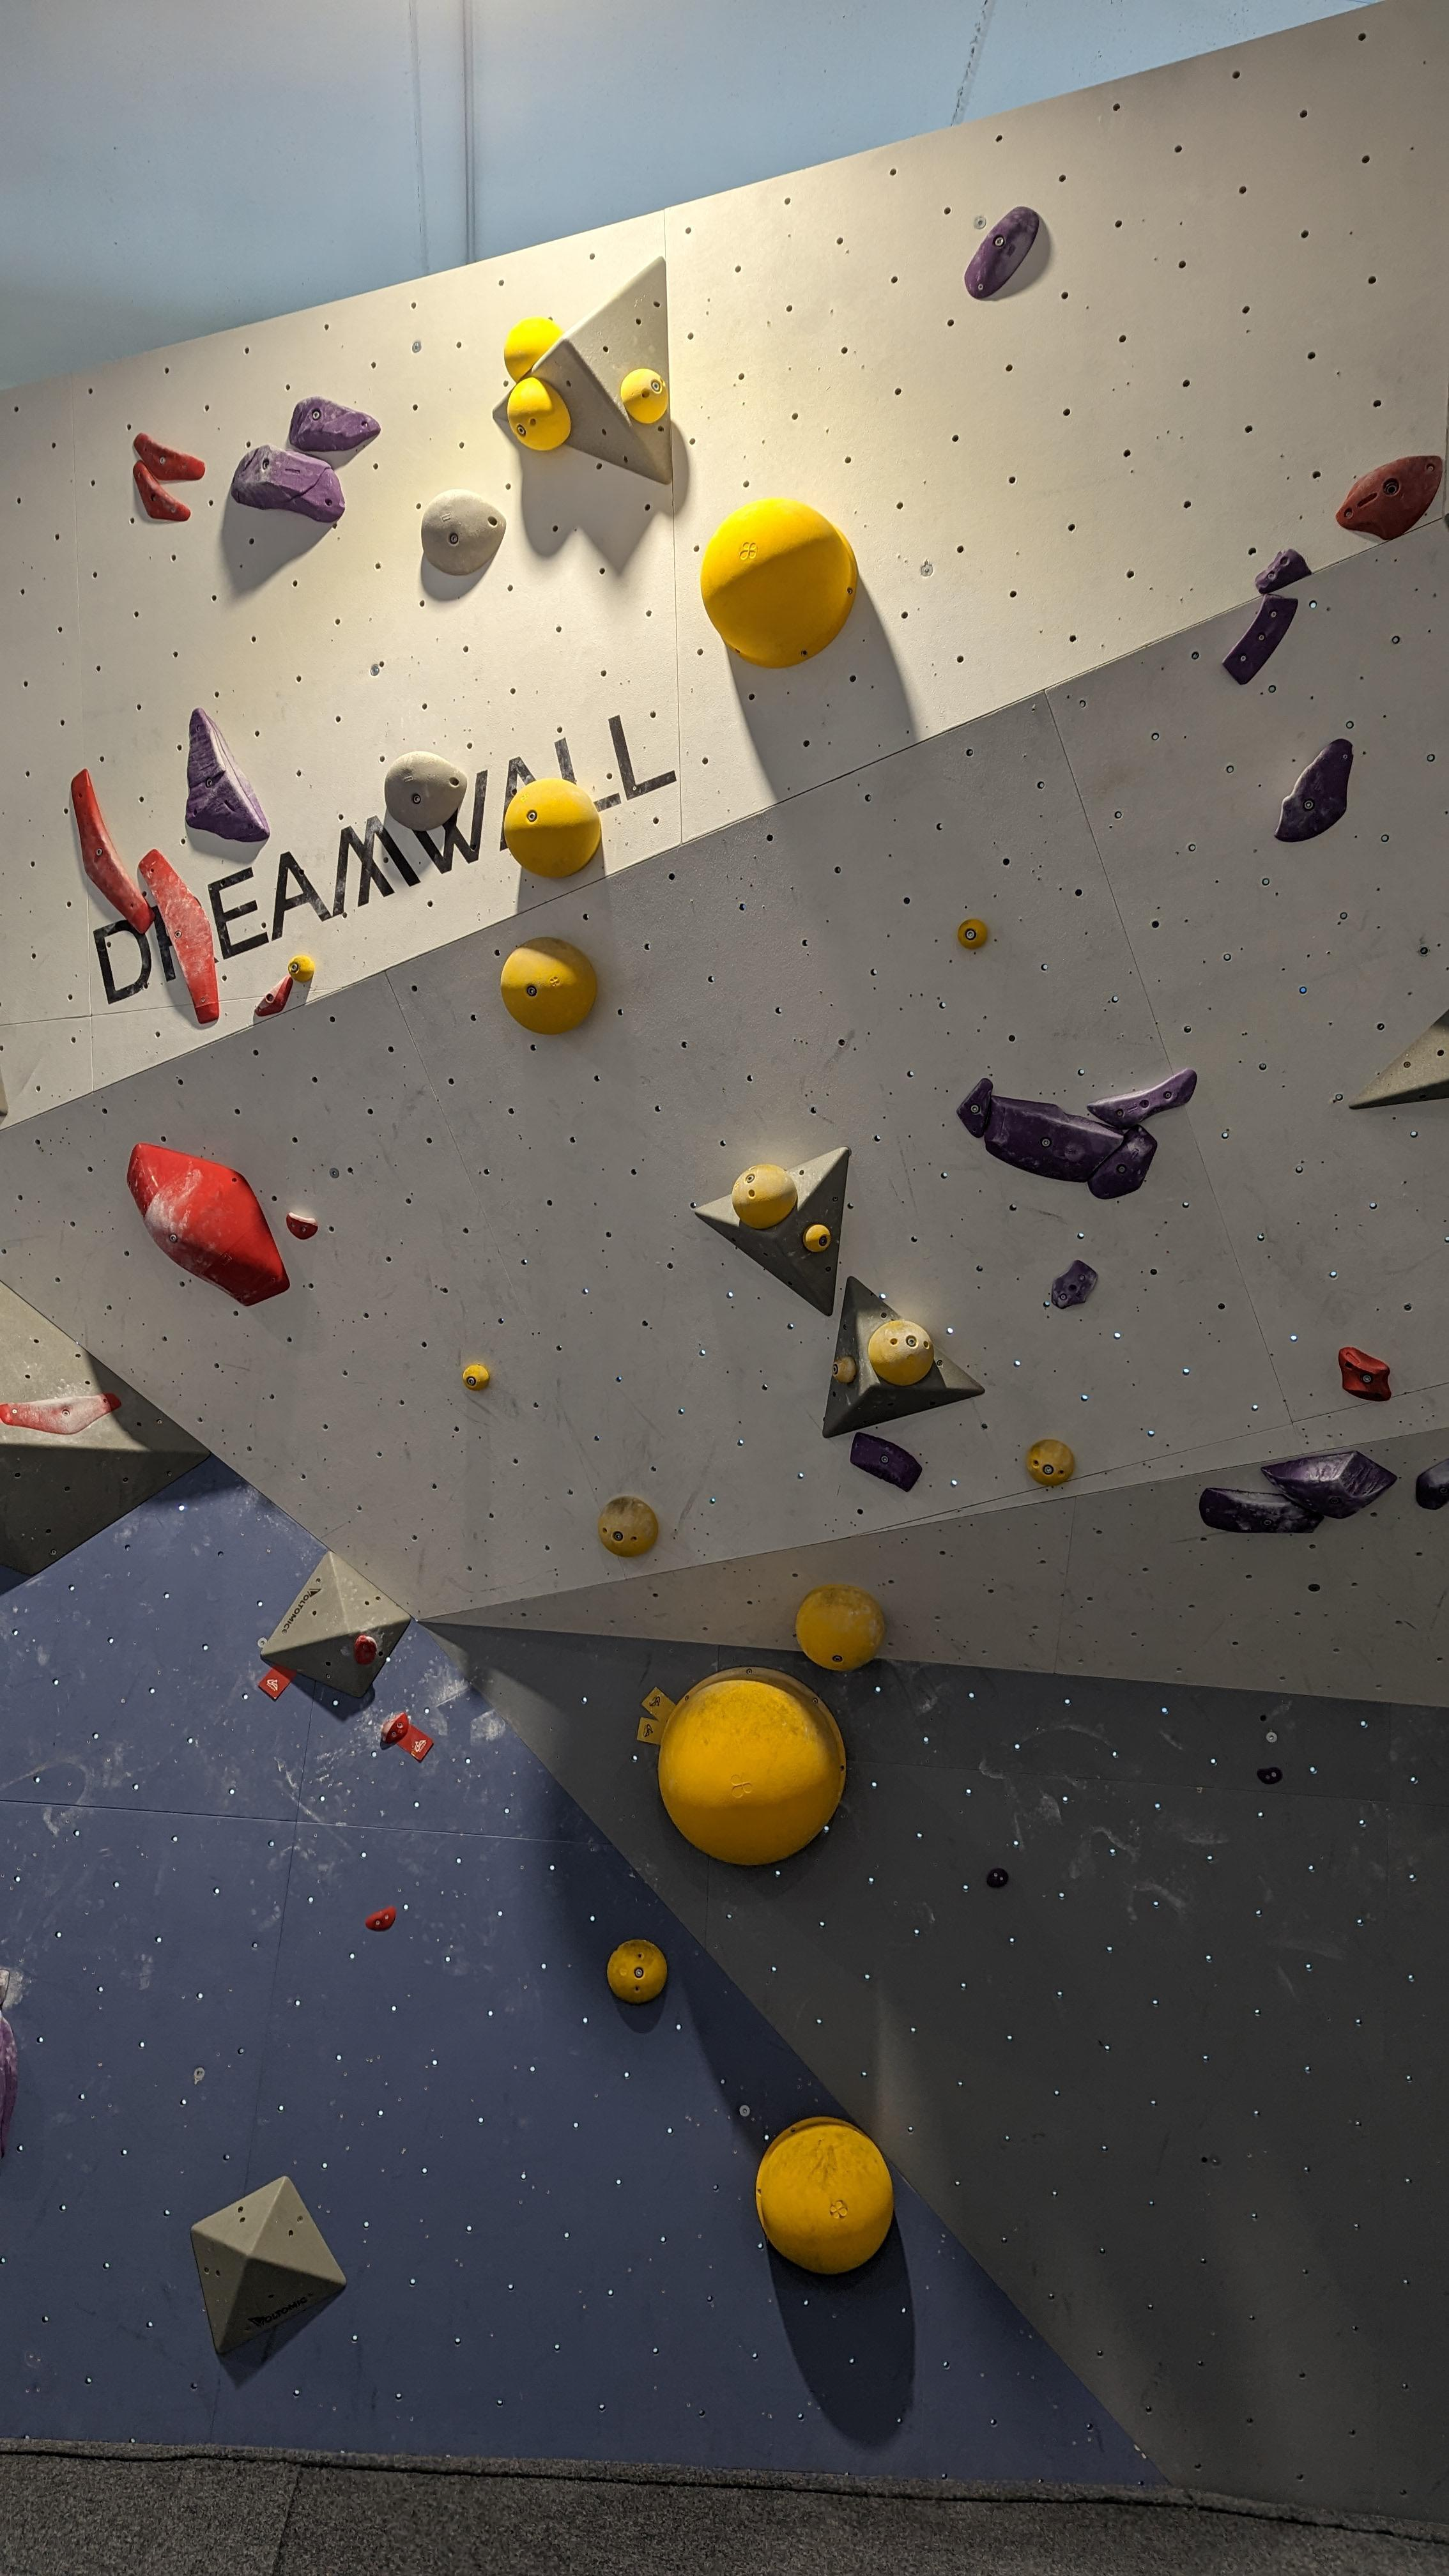hold: (658, 1667, 846, 1867), (701, 497, 858, 669), (126, 1143, 290, 1306), (755, 2116, 893, 2275), (71, 768, 156, 934), (138, 849, 219, 1023), (984, 1095, 1123, 1182), (186, 708, 271, 842), (504, 777, 600, 878), (1261, 1451, 1398, 1520), (501, 936, 596, 1033), (1336, 456, 1442, 540), (232, 444, 345, 522), (1274, 738, 1353, 842), (794, 1583, 886, 1672), (421, 488, 506, 575), (1223, 593, 1299, 685), (1086, 1069, 1198, 1131), (964, 207, 1039, 297), (384, 752, 467, 830), (1200, 1488, 1323, 1534), (1088, 1125, 1157, 1200), (0, 1392, 122, 1433), (290, 396, 380, 451), (506, 377, 571, 451), (867, 1320, 934, 1385), (851, 1431, 922, 1491), (732, 1164, 796, 1230), (504, 317, 564, 382), (607, 1939, 667, 2003), (598, 1495, 658, 1557), (134, 460, 191, 522), (134, 433, 205, 479), (1338, 1346, 1392, 1401), (621, 368, 669, 425), (1254, 548, 1313, 594), (1051, 1260, 1099, 1309), (1026, 1438, 1074, 1486), (957, 1077, 993, 1138), (1415, 1458, 1449, 1509), (255, 975, 294, 1017), (957, 918, 987, 948), (380, 1711, 409, 1743), (801, 1224, 832, 1253), (364, 1905, 396, 1932), (287, 1212, 318, 1238), (462, 1364, 490, 1391), (288, 955, 315, 982), (832, 1355, 856, 1384), (354, 1635, 377, 1665), (1256, 1767, 1283, 1785), (987, 1867, 1008, 1888)
volume: (0, 1281, 209, 1575), (494, 257, 672, 485), (189, 2174, 347, 2353), (695, 1146, 849, 1316), (823, 1277, 984, 1438), (260, 1552, 410, 1697), (1348, 1008, 1449, 1109), (0, 1969, 19, 2160), (0, 1062, 9, 1116)
